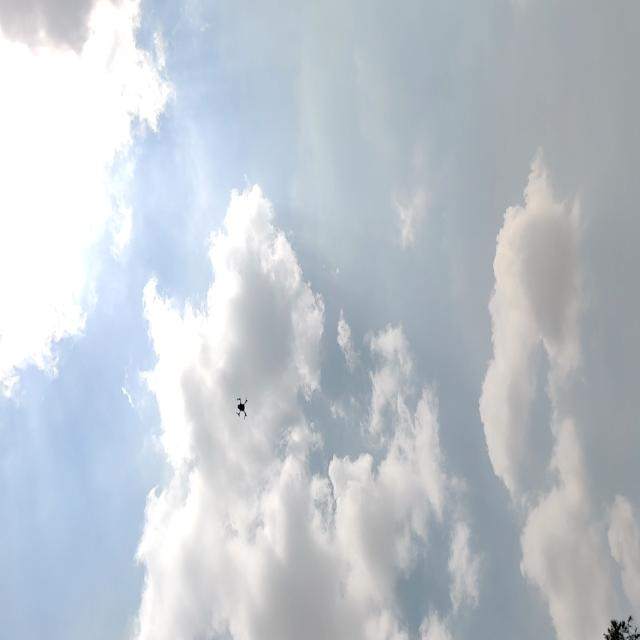drone: (228, 391, 258, 427)
